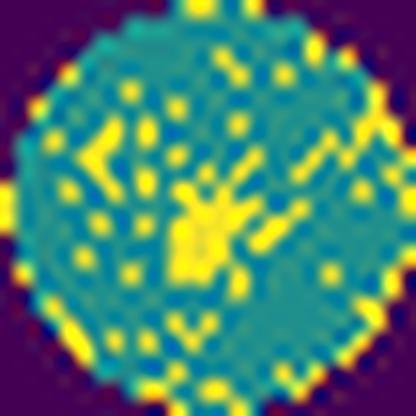Center: (159, 140, 275, 297)
